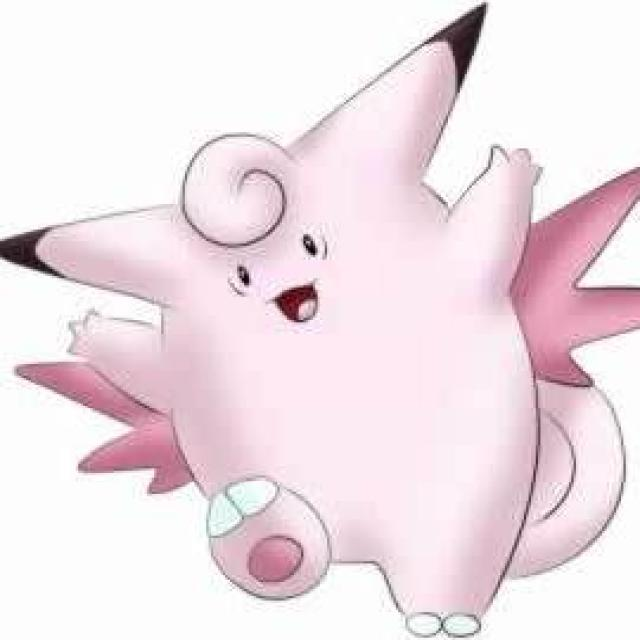Clefable: (15, 8, 628, 631)
